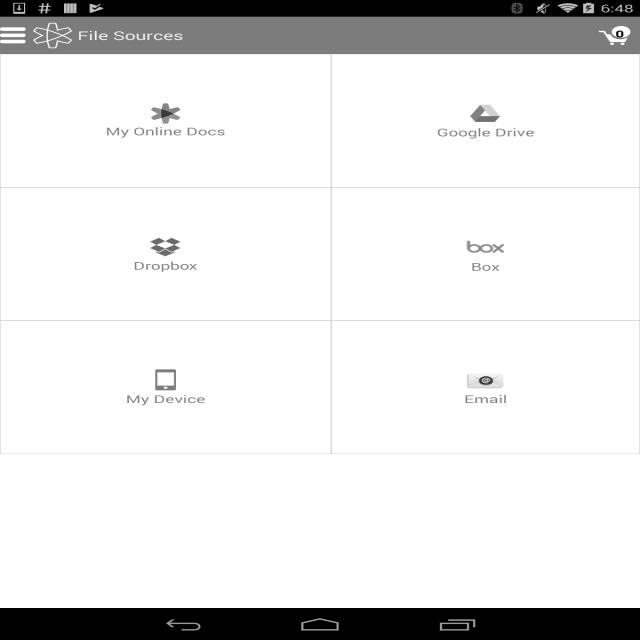ImageView: (331, 234, 640, 260), (22, 19, 73, 52), (589, 25, 640, 46), (147, 368, 184, 392), (467, 368, 504, 392), (467, 102, 504, 125), (147, 235, 184, 258), (148, 103, 182, 124), (0, 28, 26, 44)
TextView: (520, 17, 589, 54), (78, 27, 184, 43), (106, 124, 226, 138), (437, 125, 534, 139), (126, 392, 205, 406), (133, 258, 198, 273), (464, 392, 507, 406), (471, 259, 500, 274), (605, 27, 624, 40)
